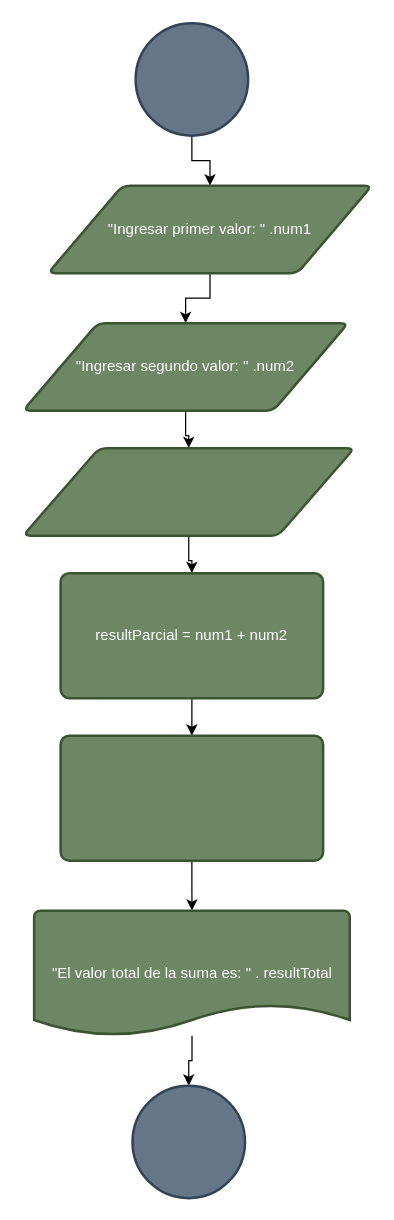
This 394x1220 diagram has some shape labels left out. Each missing label, with the centre of its shape:
"Ingresar tercer valor: " .num3: point 188,491
resultTotal = resultParcial + num3: point 191,797
